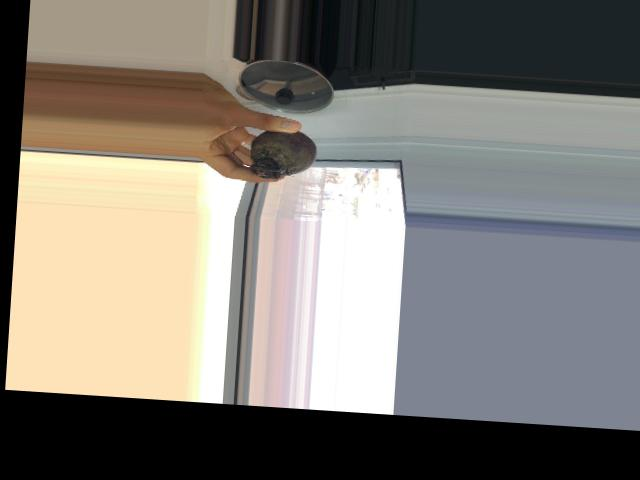beet: (230, 126, 318, 181)
